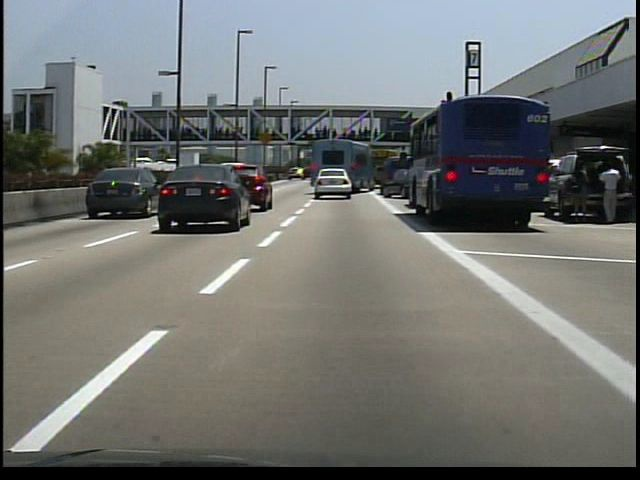person: (562, 155, 591, 224), (595, 159, 623, 227)
